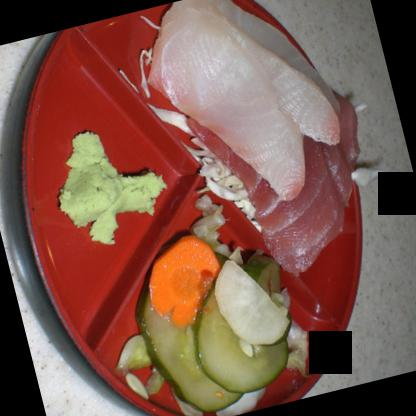tuna: (220, 112, 384, 282)
